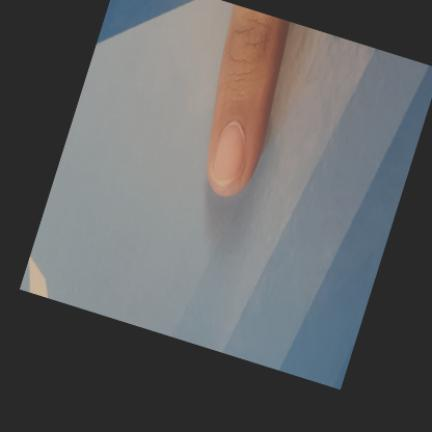Nail: (210, 122, 245, 186)
